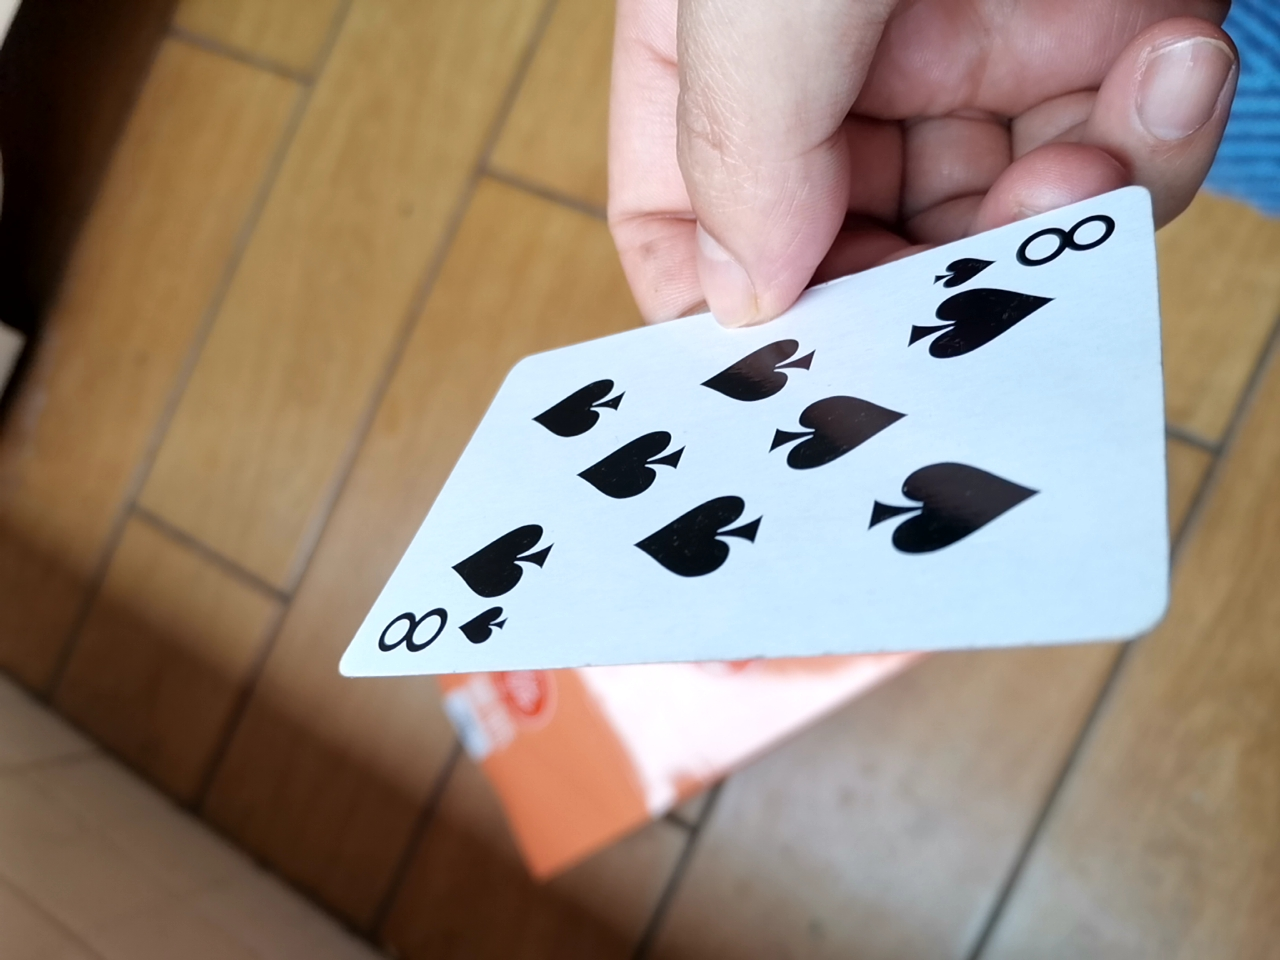ht 8: (332, 198, 1166, 747)
